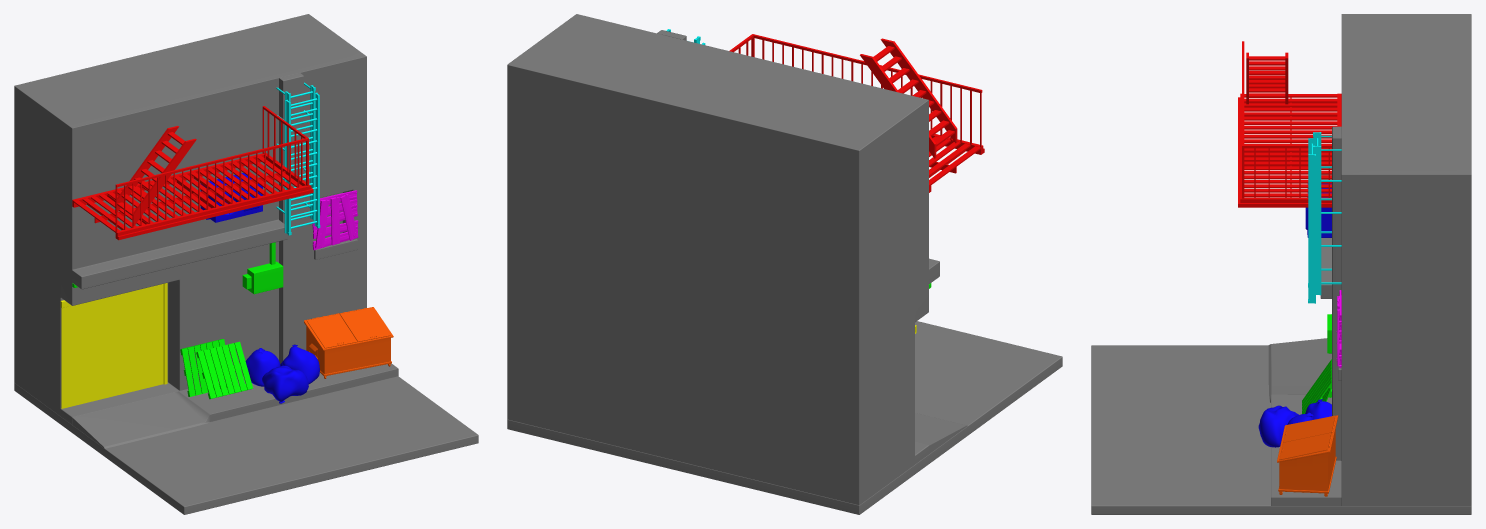
3 views of the same model, side by side, from view 1: azimuth 30°, elevation 25°; view 2: azimuth 150°, elevation 25°; view 3: azimuth 270°, elevation 25° (orthographic). The views are drawn at different scales.
Parts seen in each view (by area): view 1: Building, Stairs, Garaje_door2, Trash_Container, Electic_vent1, Trash_1, Ladder, WoodLogs; view 2: Building, Stairs; view 3: Building, Stairs, Trash_Container, Ladder, Trash_1, Electic_vent1.
Boxes of the visible parts, box(x1,y1,x2,y2) form: Building: box(14, 14, 478, 514); Stairs: box(72, 106, 313, 240); Garaje_door2: box(60, 283, 167, 408); Trash_Container: box(304, 307, 393, 378); Electic_vent1: box(72, 242, 283, 399); Trash_1: box(200, 173, 319, 403); Ladder: box(276, 82, 320, 235); WoodLogs: box(312, 190, 358, 250); Building: box(507, 14, 1062, 514); Stairs: box(729, 34, 984, 192); Building: box(1091, 14, 1471, 514); Stairs: box(1238, 41, 1341, 207); Trash_Container: box(1277, 415, 1338, 496); Ladder: box(1308, 132, 1341, 303); Trash_1: box(1258, 183, 1331, 447); Electic_vent1: box(1302, 314, 1331, 414).
Bounding box in the file's own units: 18.1 × 17.79 × 18.
